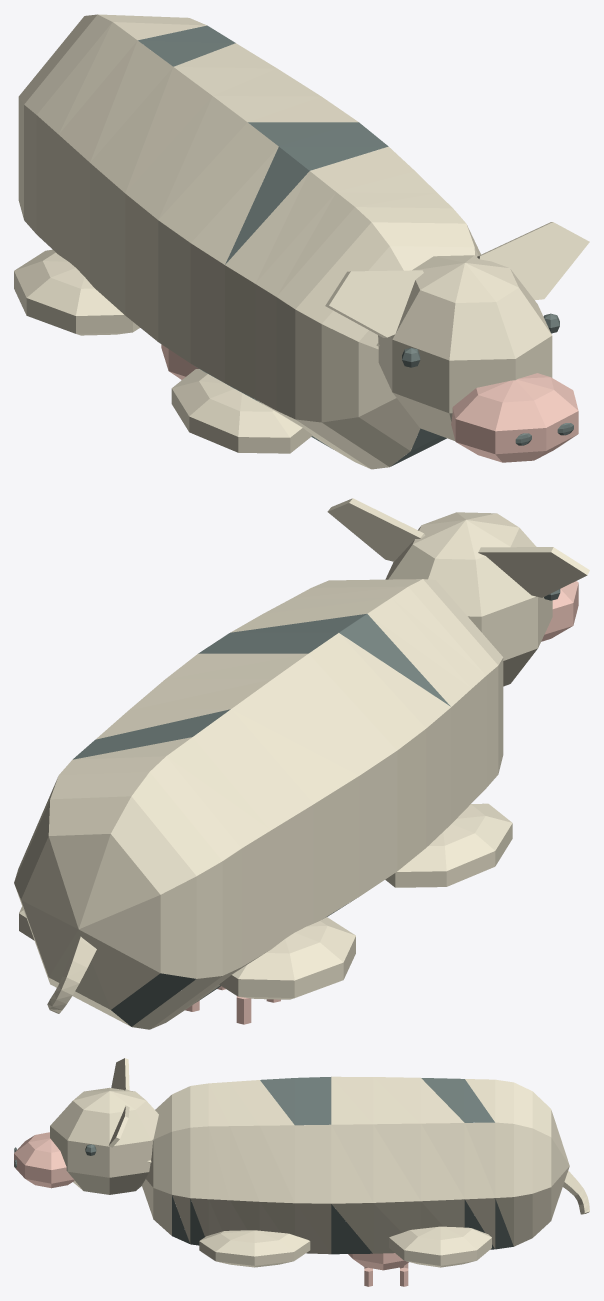
Rendered from farm-livestock-and-barnyard-dairy-cow-lying-14a74618__5041.glb.
3 renders of one model, top to bottom at view 1: azimuth 30°, elevation 25°; view 2: azimuth 150°, elevation 25°; view 3: azimuth 270°, elevation 25°, orthographic. The views are drawn at different scales.
Parts seen in each view (by area): view 1: dairy-cow-lying; view 2: dairy-cow-lying; view 3: dairy-cow-lying.
Part boxes in pixels (x1,y1,x2,y2): dairy-cow-lying: (14,14,589,469); dairy-cow-lying: (14,498,589,1029); dairy-cow-lying: (14,1058,589,1286).
Bounding box in the file's own units: 1.03 × 1.02 × 2.77.
